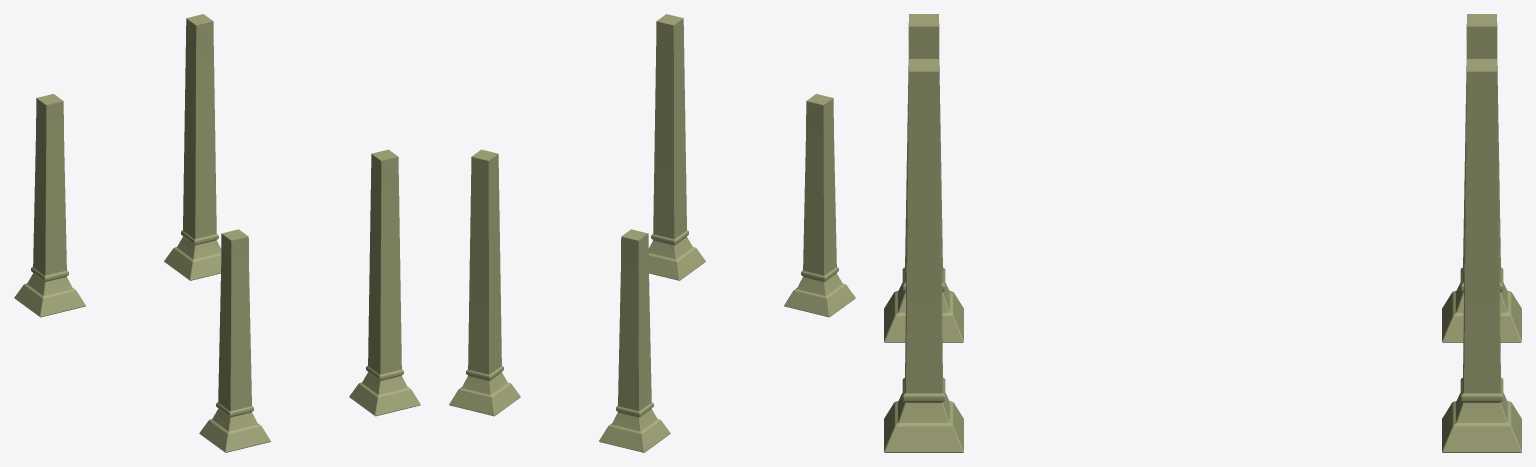
File: Stands.fbx
3 renders of one model, left to right at view 1: azimuth 30°, elevation 25°; view 2: azimuth 150°, elevation 25°; view 3: azimuth 270°, elevation 25°, orthographic. The views are drawn at different scales.
Parts seen in each view (by area): view 1: pCube55, pCube63, pCube56, pCube64; view 2: pCube63, pCube55, pCube64, pCube56; view 3: pCube55, pCube63, pCube56, pCube64.
Boxes of the visible parts, left/top/right/bottom form: pCube55: left=349, top=149, right=420, bottom=416; pCube63: left=164, top=14, right=221, bottom=280; pCube56: left=199, top=229, right=270, bottom=452; pCube64: left=14, top=94, right=85, bottom=317; pCube63: left=449, top=149, right=520, bottom=416; pCube55: left=648, top=14, right=705, bottom=280; pCube64: left=599, top=229, right=670, bottom=452; pCube56: left=784, top=94, right=855, bottom=317; pCube55: left=884, top=59, right=963, bottom=452; pCube63: left=1442, top=59, right=1521, bottom=452; pCube56: left=884, top=14, right=963, bottom=342; pCube64: left=1442, top=14, right=1521, bottom=342.
Size of the model in its own units: 5.05 by 6.07 by 9.46.
